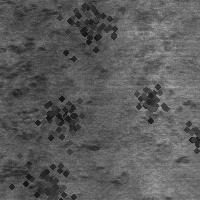rolled-in_scale: (1, 33, 54, 184), (37, 0, 137, 73), (134, 91, 194, 166), (9, 147, 81, 200), (28, 86, 88, 146), (129, 77, 169, 117), (173, 106, 200, 158)
